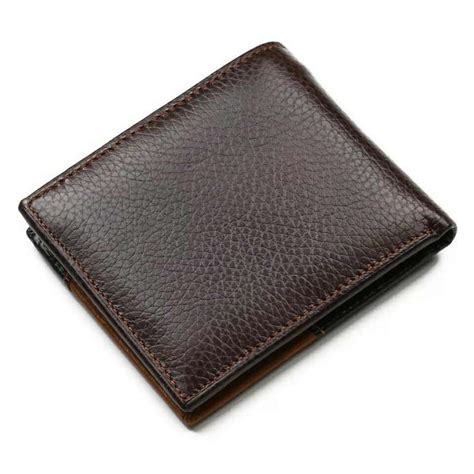cuero: (21, 40, 457, 432)
